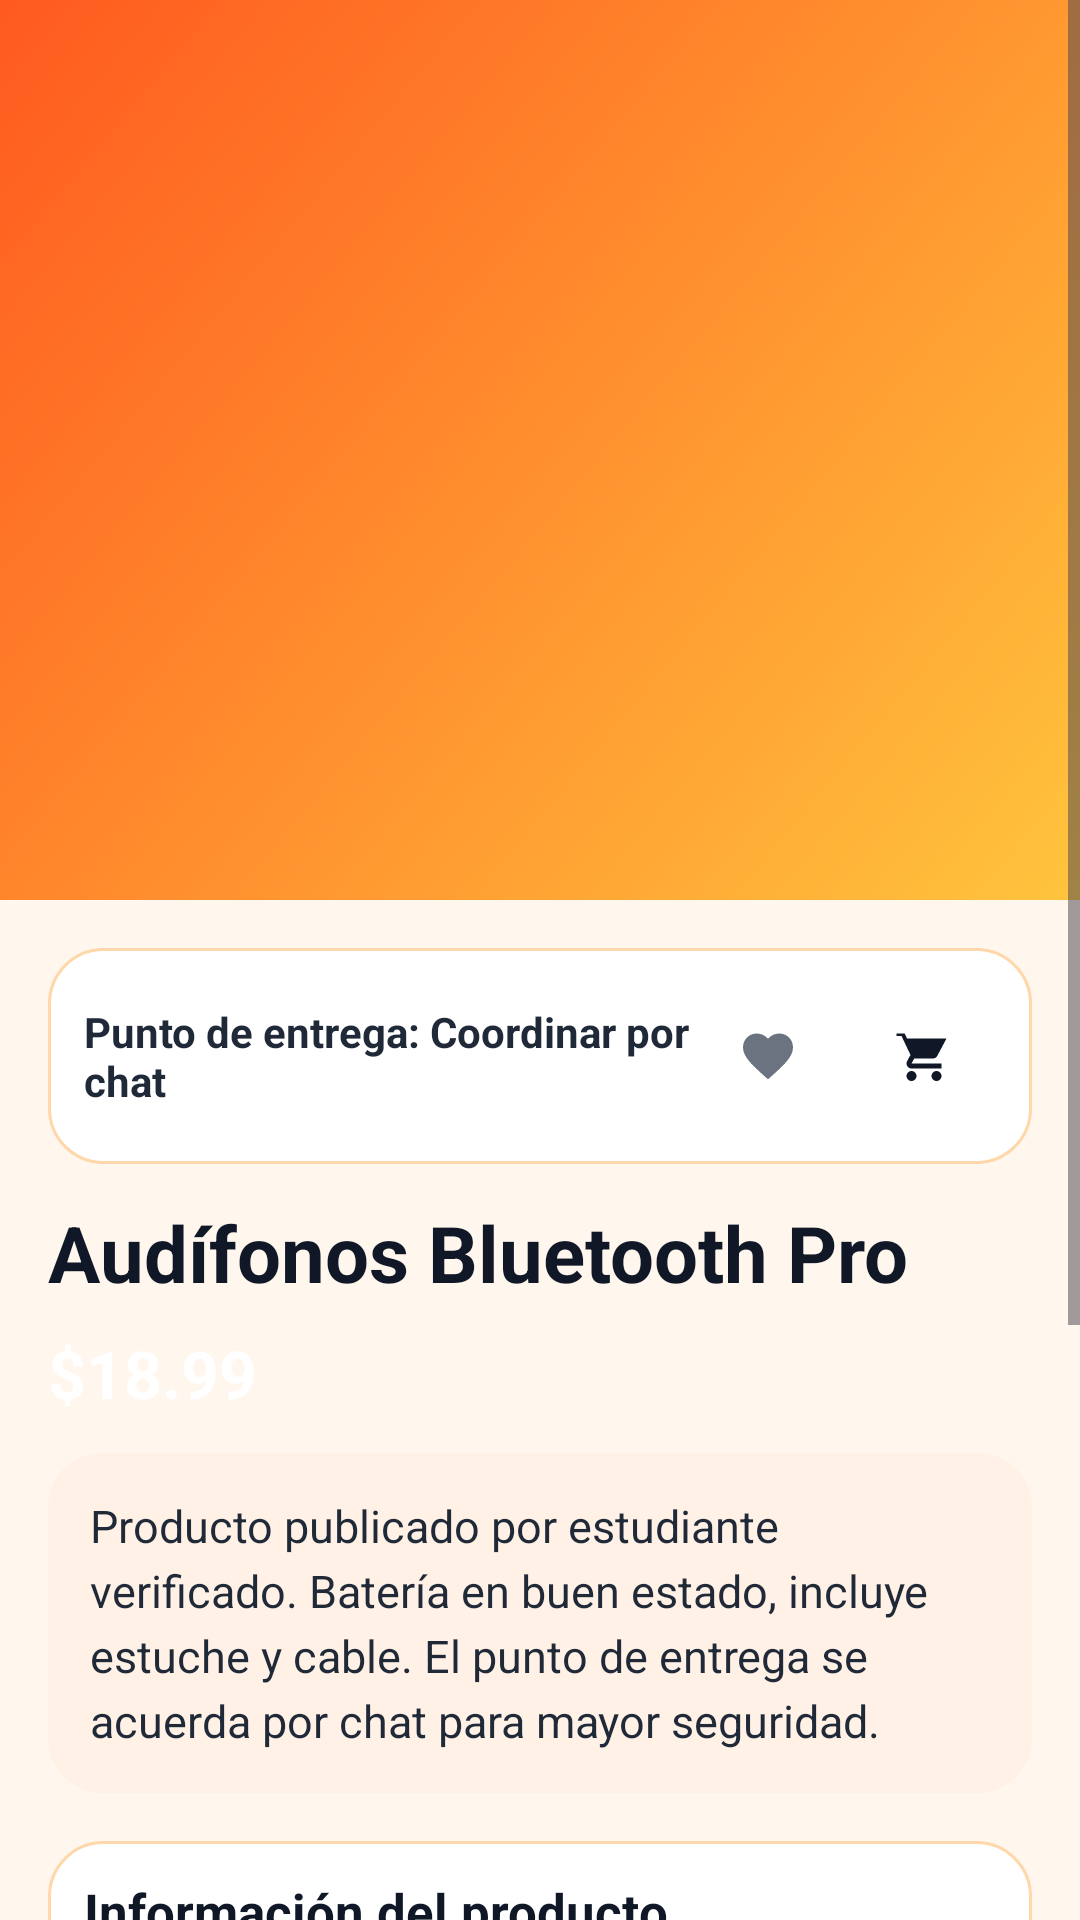

Icons on this 1080×1920 Android screen, each with the point to tap as (x=x, y=y):
Agregar a favoritos: (x=768, y=1056)
Agregar al carrito: (x=921, y=1057)
